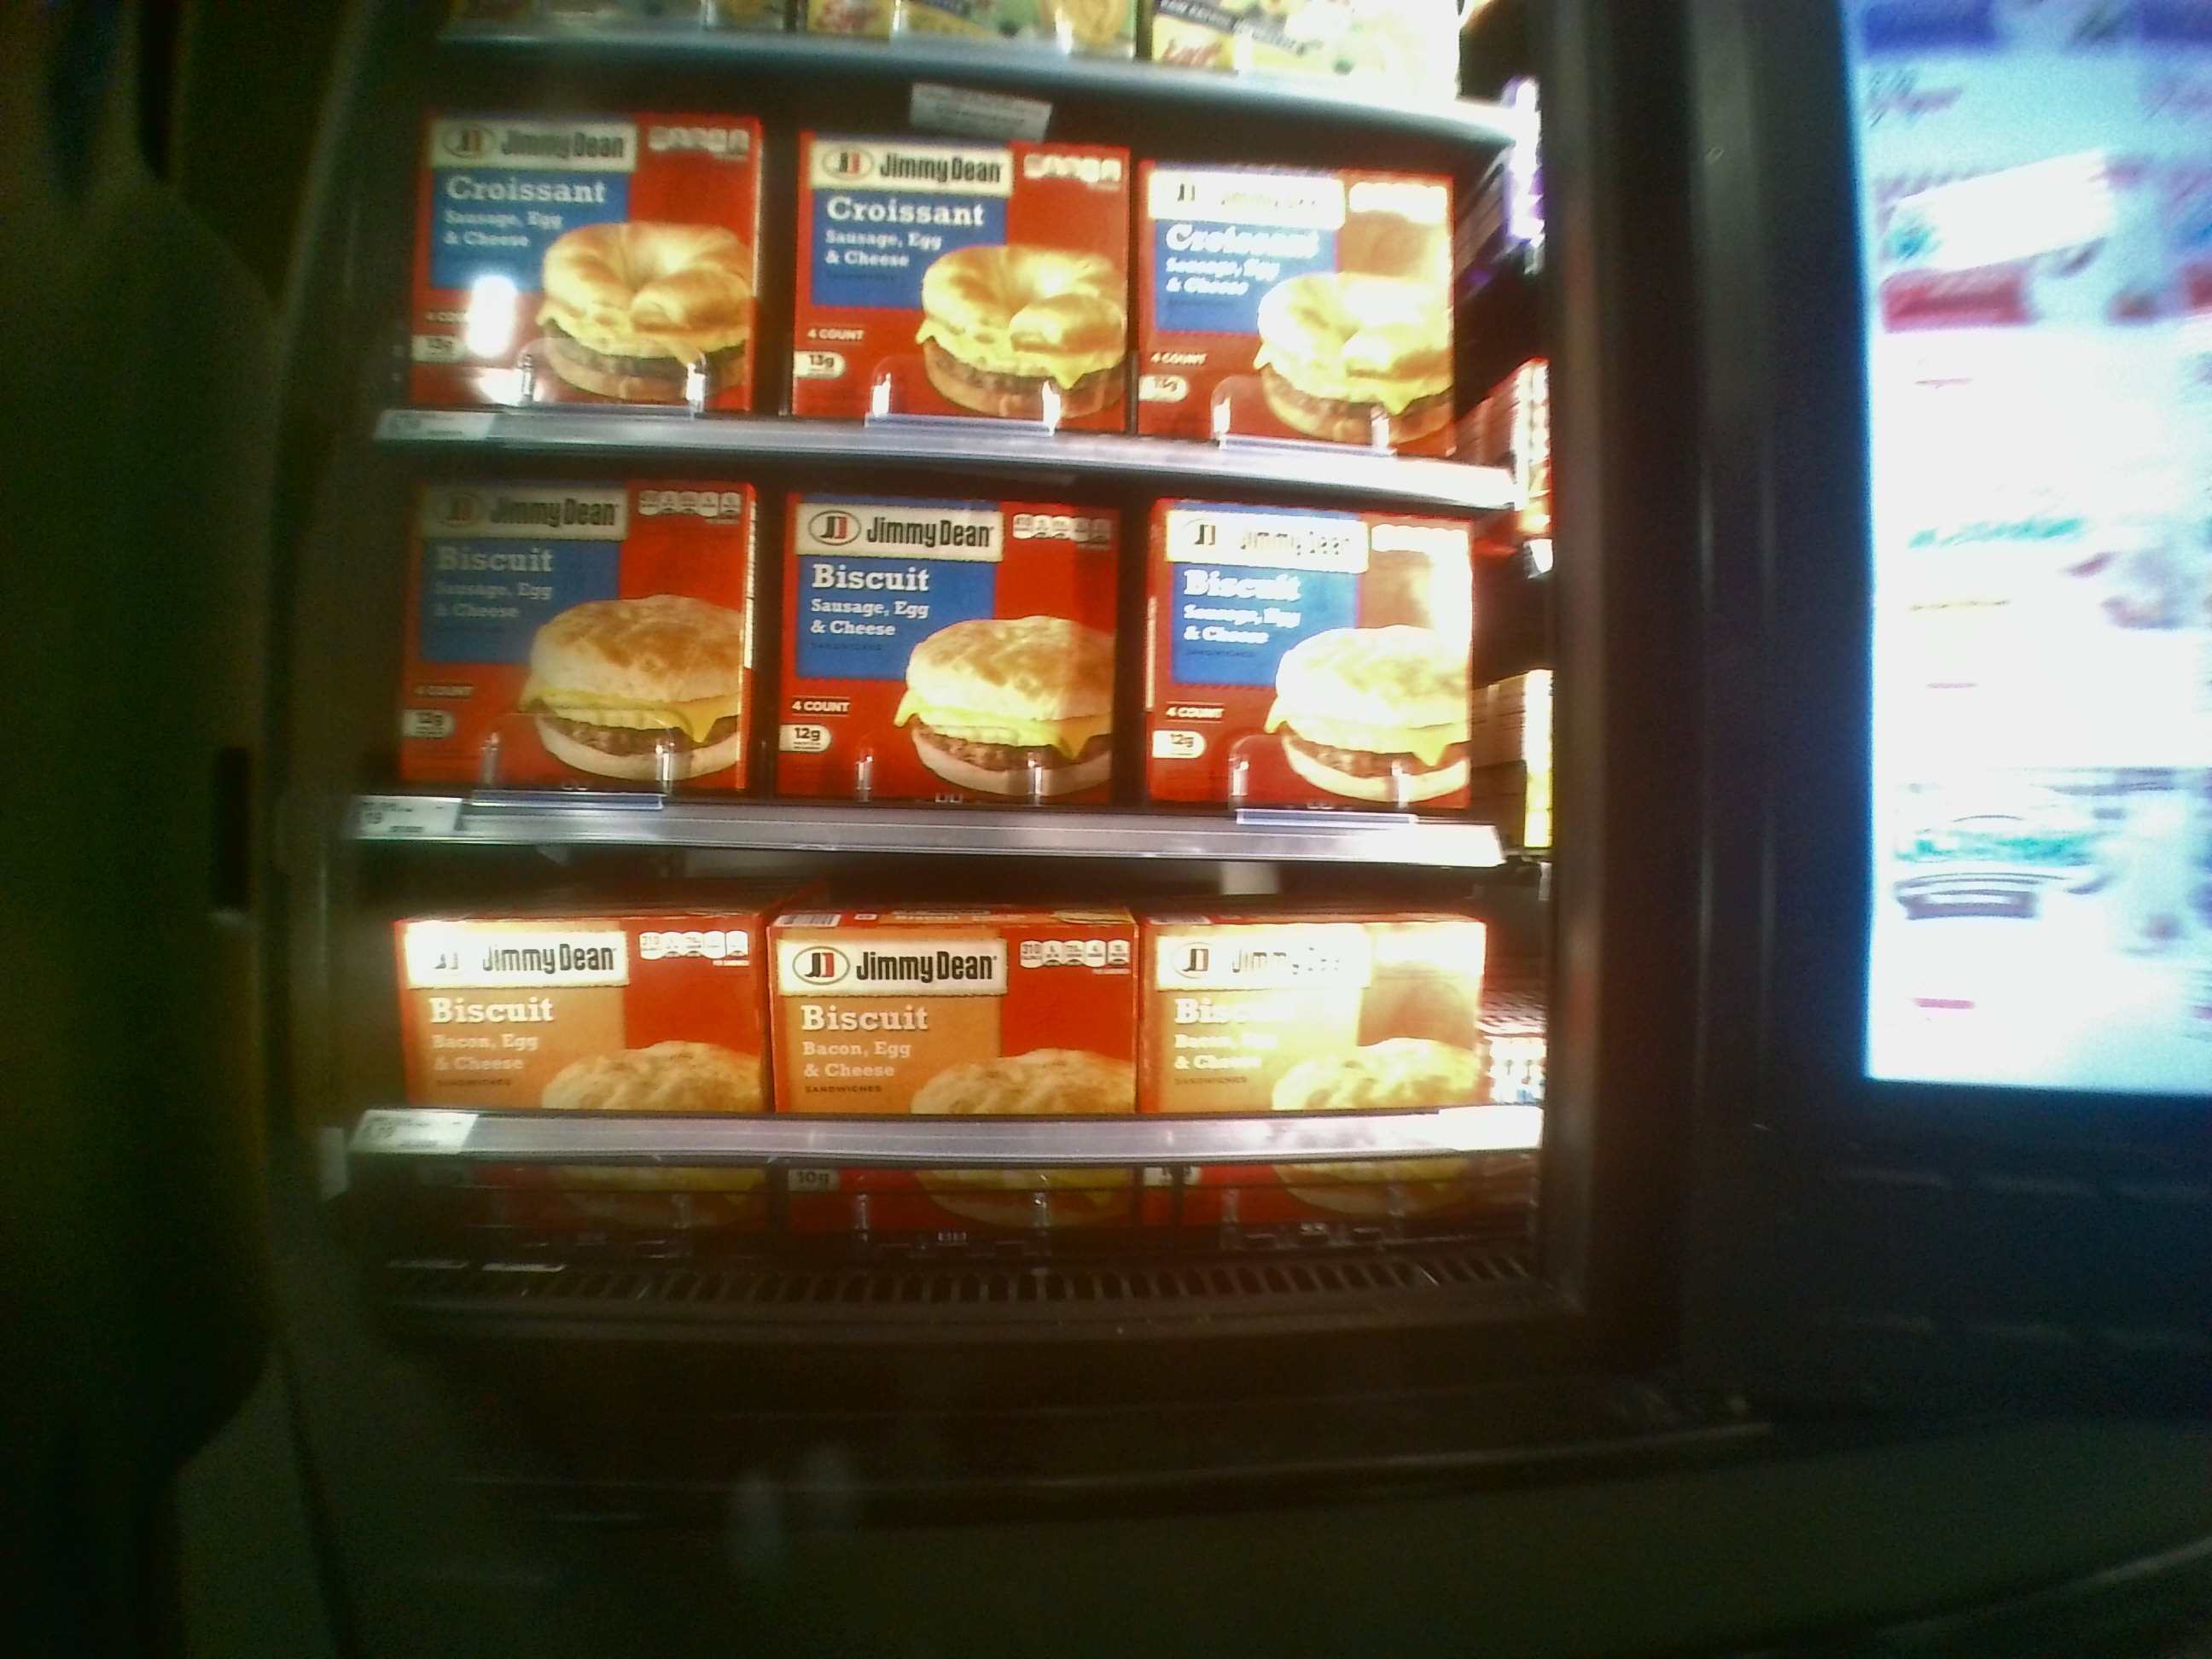shelf: (348, 836, 1545, 1143)
